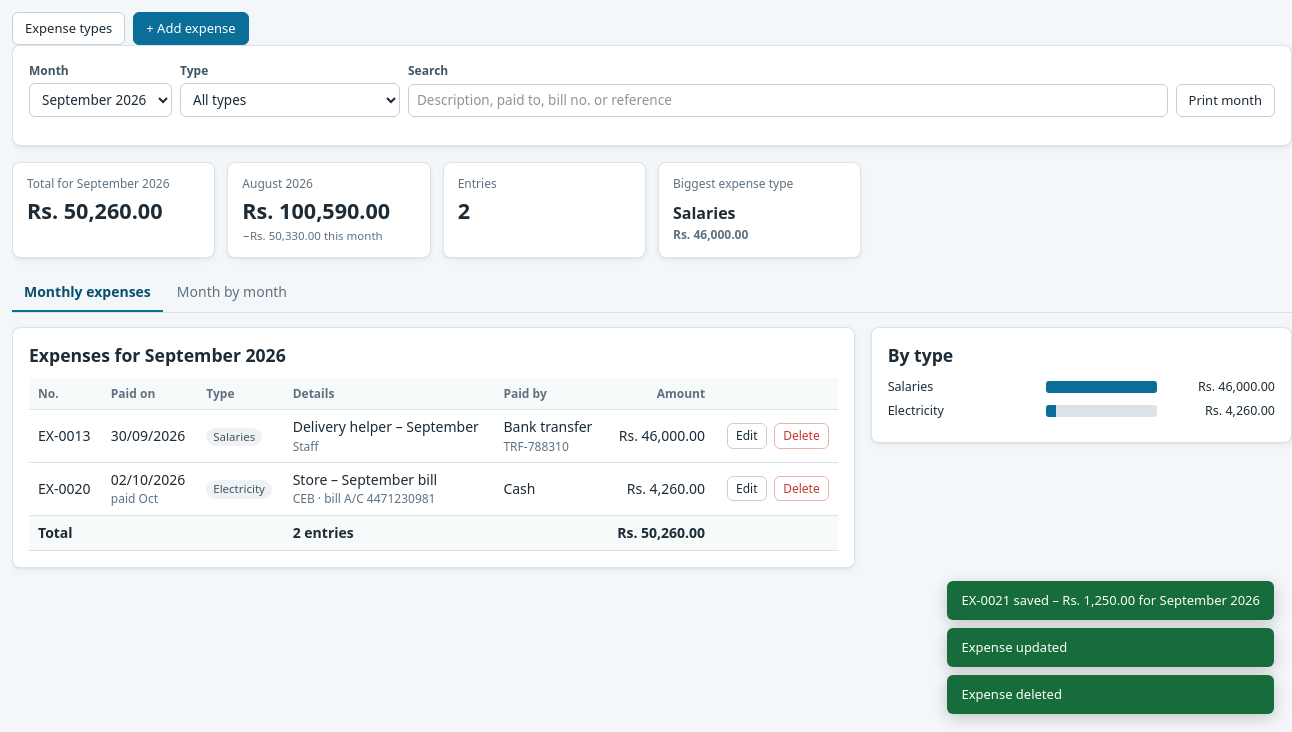
Expenses › shows month by month, opens a month from it and exports Excel
Click the tab "Month by month" at (232, 293), box x1=165 y1=274 x2=299 y2=312
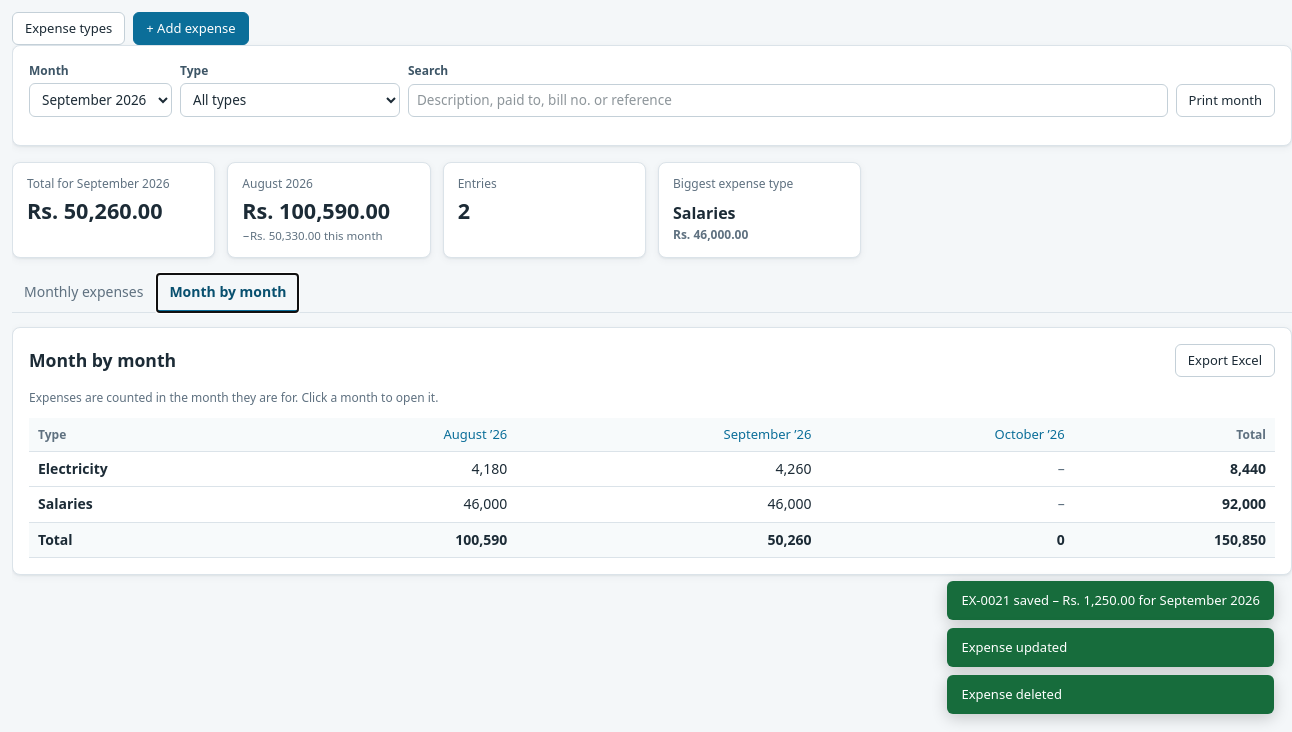
Expected: the text with test id "summary-total" reads "150,850", x1=1214 y1=530 x2=1266 y2=549
Click the button "August ’26" at (475, 434), box x1=443 y1=425 x2=507 y2=444
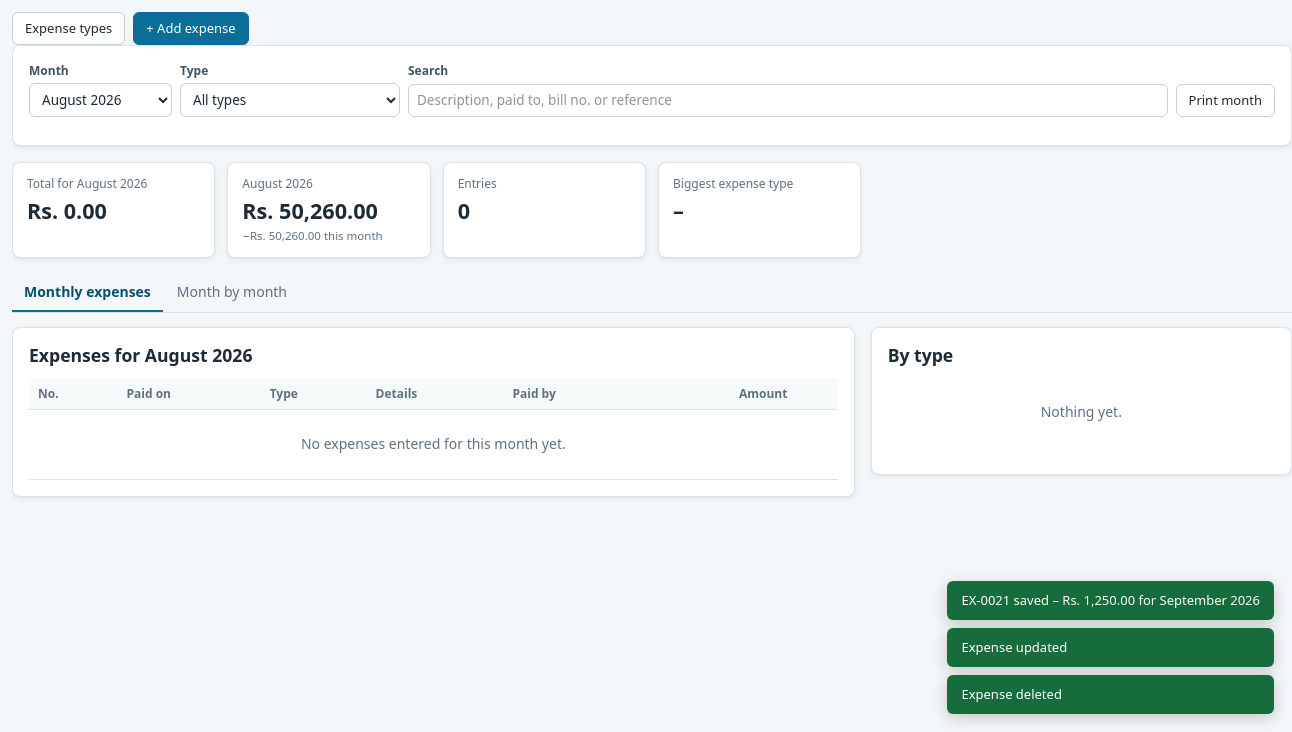
Expected: the heading "Expenses for August 2026" is shown, x1=29 y1=343 x2=252 y2=367
